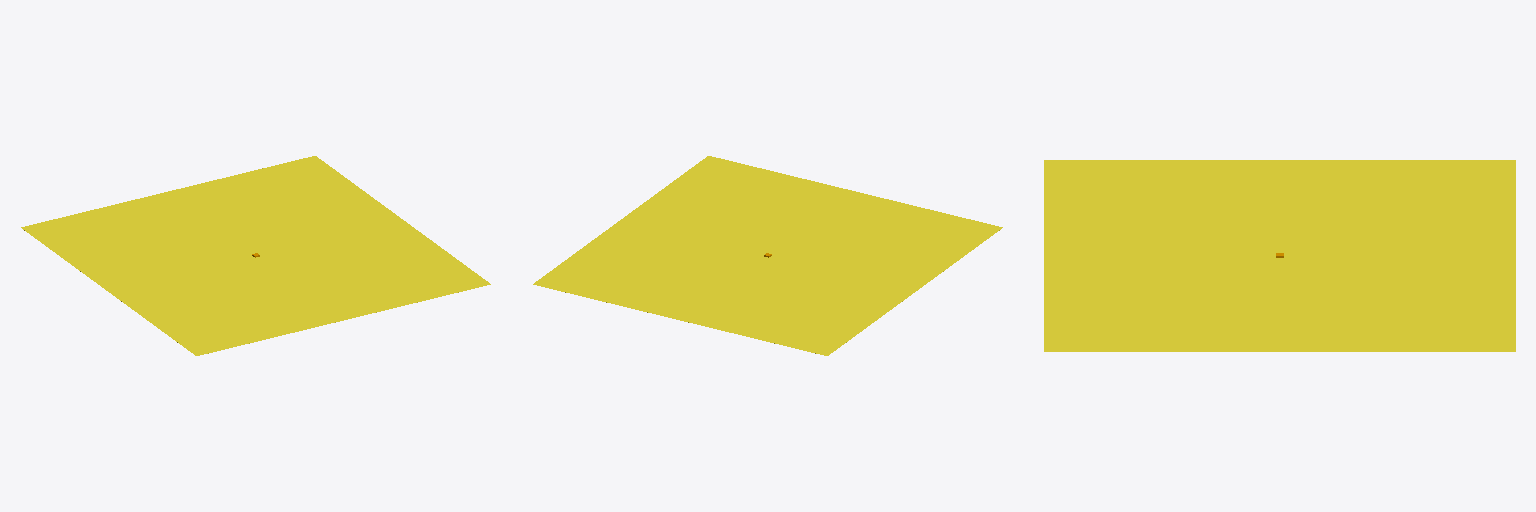
robot.urdf — simple_robot:
<?xml version="1.0"?>
<robot name="simple_robot">
  <link name="base_link">
    <visual>
      <geometry>
        <box size="0.5 0.5 0.25"/>
      </geometry>
      <pose>0 0 0.125 0 0 0</pose>
    </visual>
  </link>
  <link name="left_wheel">
    <visual>
      <geometry>
        <cylinder radius="0.1" length="0.05"/>
      </geometry>
    </visual>
  </link>
  <joint name="left_wheel_joint" type="continuous">
    <parent link="base_link"/>
    <child link="left_wheel"/>
    <origin xyz="0 -0.29 -0.13" rpy="1.5708 0 0"/>
    <axis xyz="0 1 0"/>
  </joint>
  <link name="right_wheel">
    <visual>
      <geometry>
        <cylinder radius="0.1" length="0.05"/>
      </geometry>
    </visual>
  </link>
  <joint name="right_wheel_joint" type="continuous">
    <parent link="base_link"/>
    <child link="right_wheel"/>
    <origin xyz="0 0.29 -0.13" rpy="1.5708 0 0"/>
    <axis xyz="0 1 0"/>
  </joint>
 
  <!--- new from description_1 -->
  <!-- Here is a fake map -->
  <link name="map">
    <visual>
      <geometry>
        <mesh filename="package://description_2/meshes/map1.dae"/>
      </geometry>
      <pose>0 0 0.0 0 0 0</pose>
    </visual>
  </link>

   <joint name="map_joint" type="fixed">
    <parent link="base_link"/>
    <child link="map"/>
    <origin xyz="0 0 0" rpy="0 0 0"/>
  </joint>

  <!-- Here is the base_footprint -->
  <material name="blue">
    <color rgba="0 0 1 1"/>
  </material>
  <link name="base_footprint">
    <visual>
      <geometry>
        <box size="0.5 0.5 0.001"/>
      </geometry>
      <pose>0 0 0 0 0 0</pose>
      <material name="blue"/>
    </visual>
  </link>

  <joint name="base_footprint_joint" type="fixed">
    <parent link="base_link"/>
    <child link="base_footprint"/>
    <origin xyz="0 0 -0.23" rpy="0 0 0"/>
  </joint>

</robot>

--- Facts derived from the render (not from the file) ---
3 views of the same robot in one strip: view 1: azimuth 30°, elevation 25°; view 2: azimuth 150°, elevation 25°; view 3: azimuth 270°, elevation 25° (orthographic).
Model simple_robot with 5 links and 4 joints (2 continuous, 2 fixed), rooted at base_link, posed all joints at 0.
Links seen in each view (by area): view 1: map; view 2: map; view 3: map.
Link boxes in pixels (left/top/right/bottom): map: left=21, top=156, right=490, bottom=355; map: left=533, top=156, right=1002, bottom=355; map: left=1044, top=160, right=1515, bottom=351.
Size in the robot's own frame: 29.8 by 30.8 by 0.3555 metres.
1 mesh visuals loaded from 1 distinct referenced files (1 Collada DAE).
